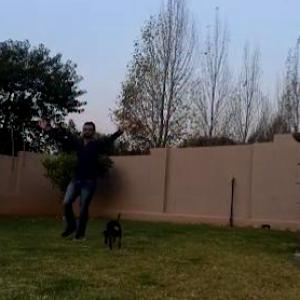takeoff: (42, 121, 137, 239)
